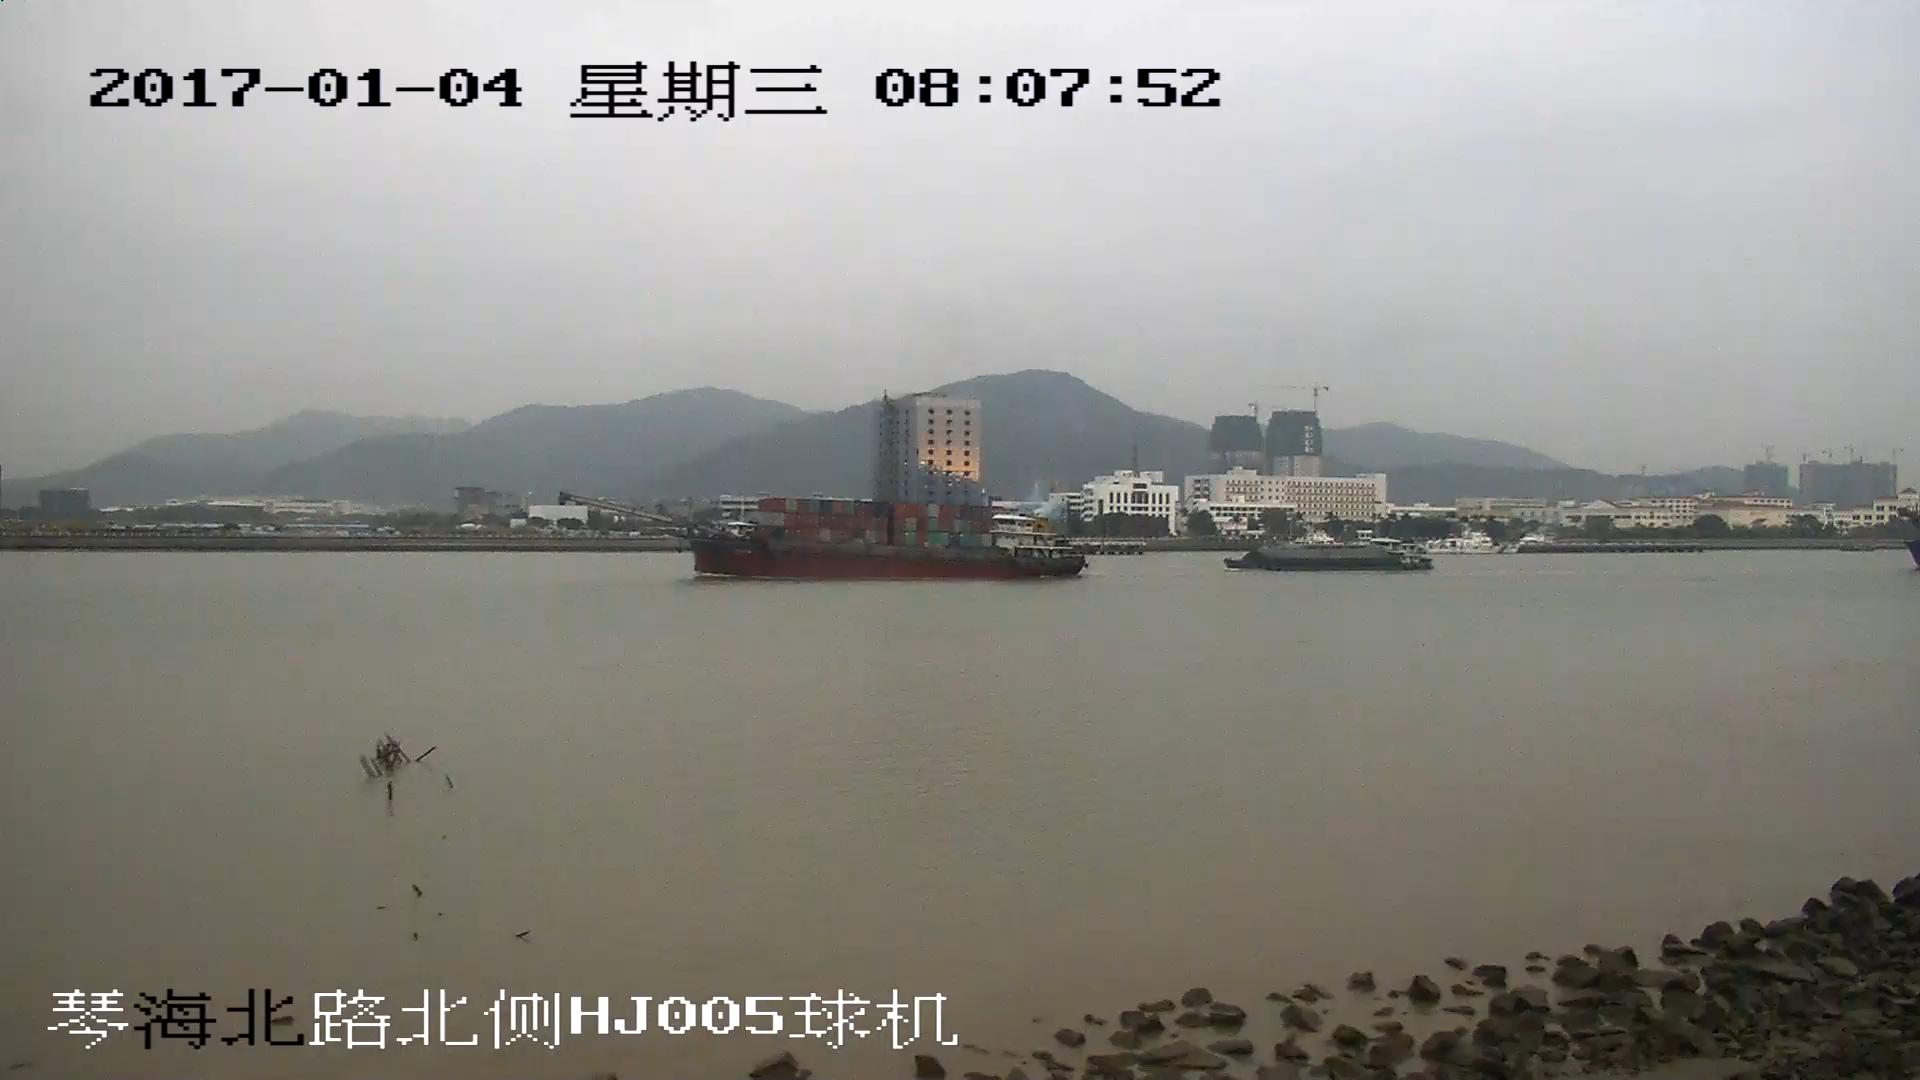bulk cargo carrier: (561, 491, 1077, 579)
container ship: (754, 500, 998, 535)
general cargo ship: (1228, 542, 1428, 572)
